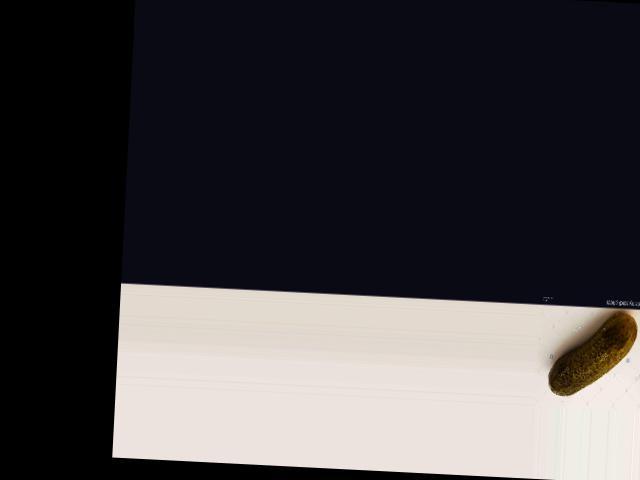cucumber: (547, 309, 638, 398)
